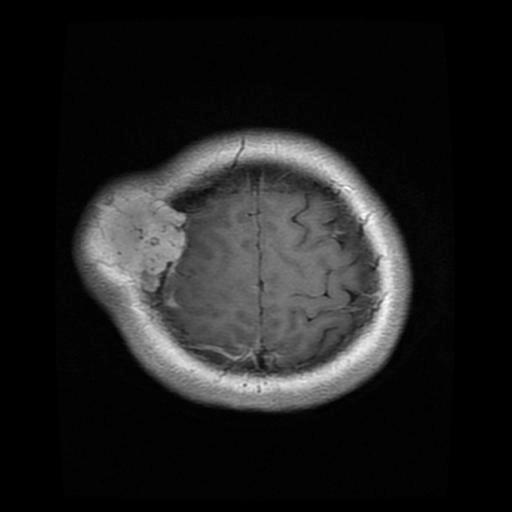Tumour-Meningioma: (63, 151, 199, 304)
